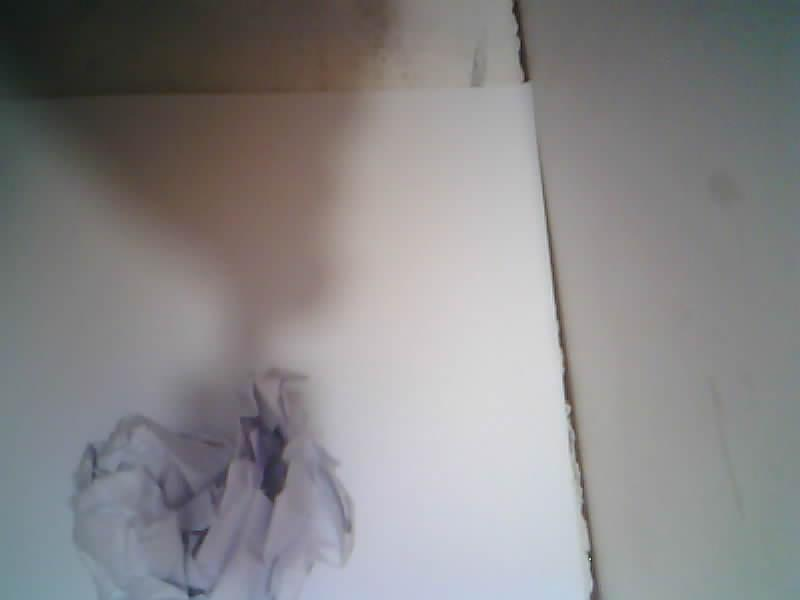biodegradable: (71, 374, 353, 599)
